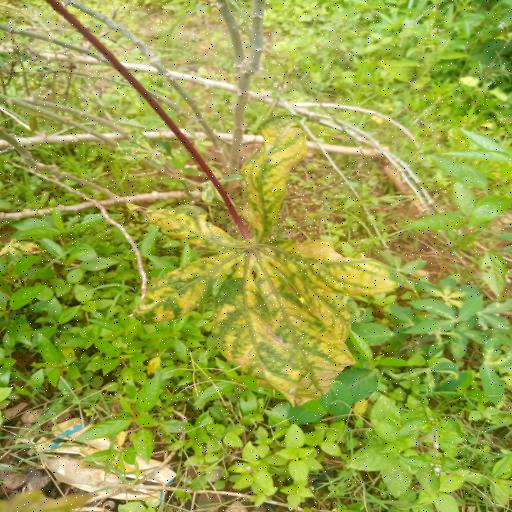Cassava_Mosaic: (125, 122, 400, 406)
